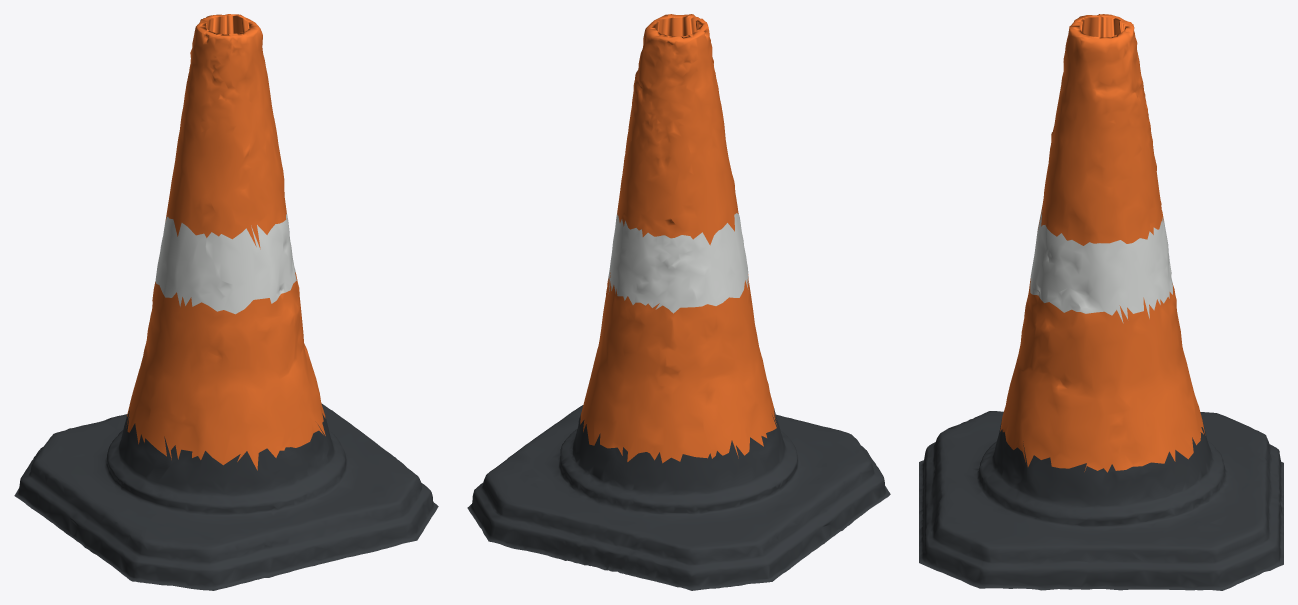
3 views of the same model, side by side, from view 1: azimuth 30°, elevation 25°; view 2: azimuth 150°, elevation 25°; view 3: azimuth 270°, elevation 25° (orthographic). The views are drawn at different scales.
Visible parts, largest first — view 1: RENDER_00; view 2: RENDER_00; view 3: RENDER_00.
Part boxes in pixels (left/top/right/bottom): RENDER_00: left=14, top=14, right=438, bottom=590; RENDER_00: left=467, top=14, right=890, bottom=590; RENDER_00: left=919, top=14, right=1283, bottom=590.
Bounding box in the file's own units: 0.6705 × 0.9999 × 0.6755.
